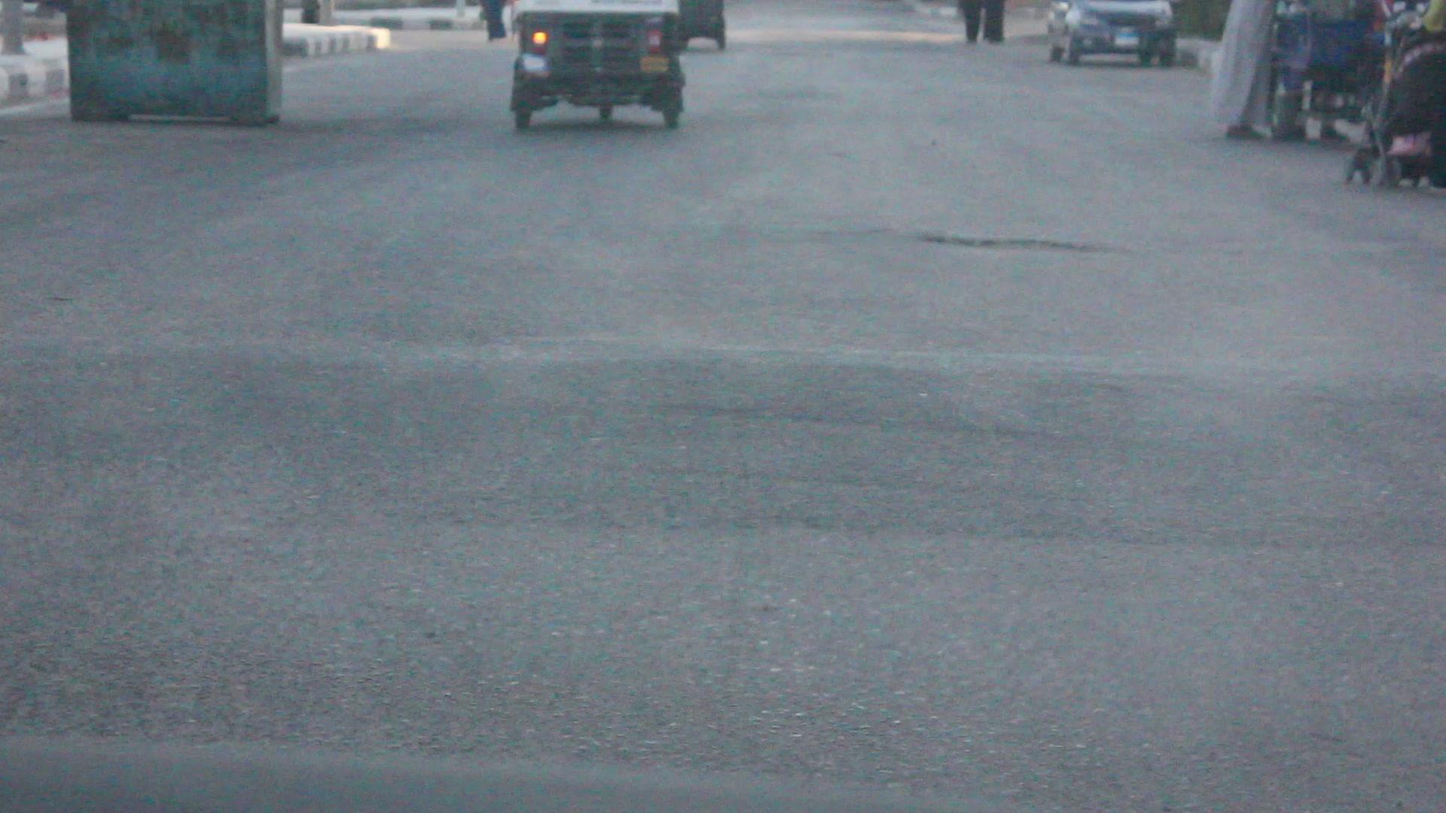Bump: (6, 337, 1446, 538)
